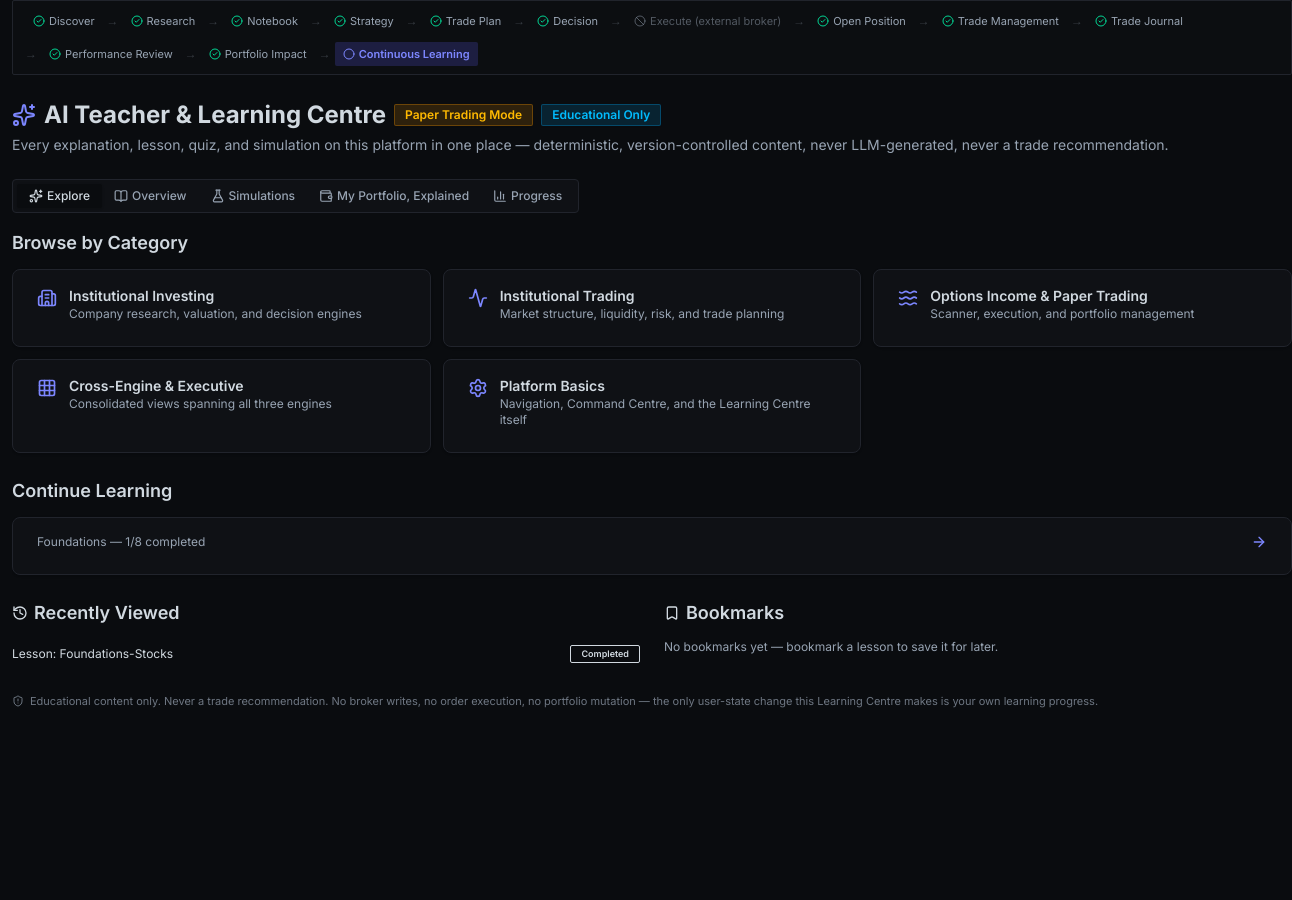
LearningCentre › switching to My Portfolio, Explained shows a real explanation with a related lesson link
Click the tab "My Portfolio, Explained": (394, 196) [307,184,481,208]
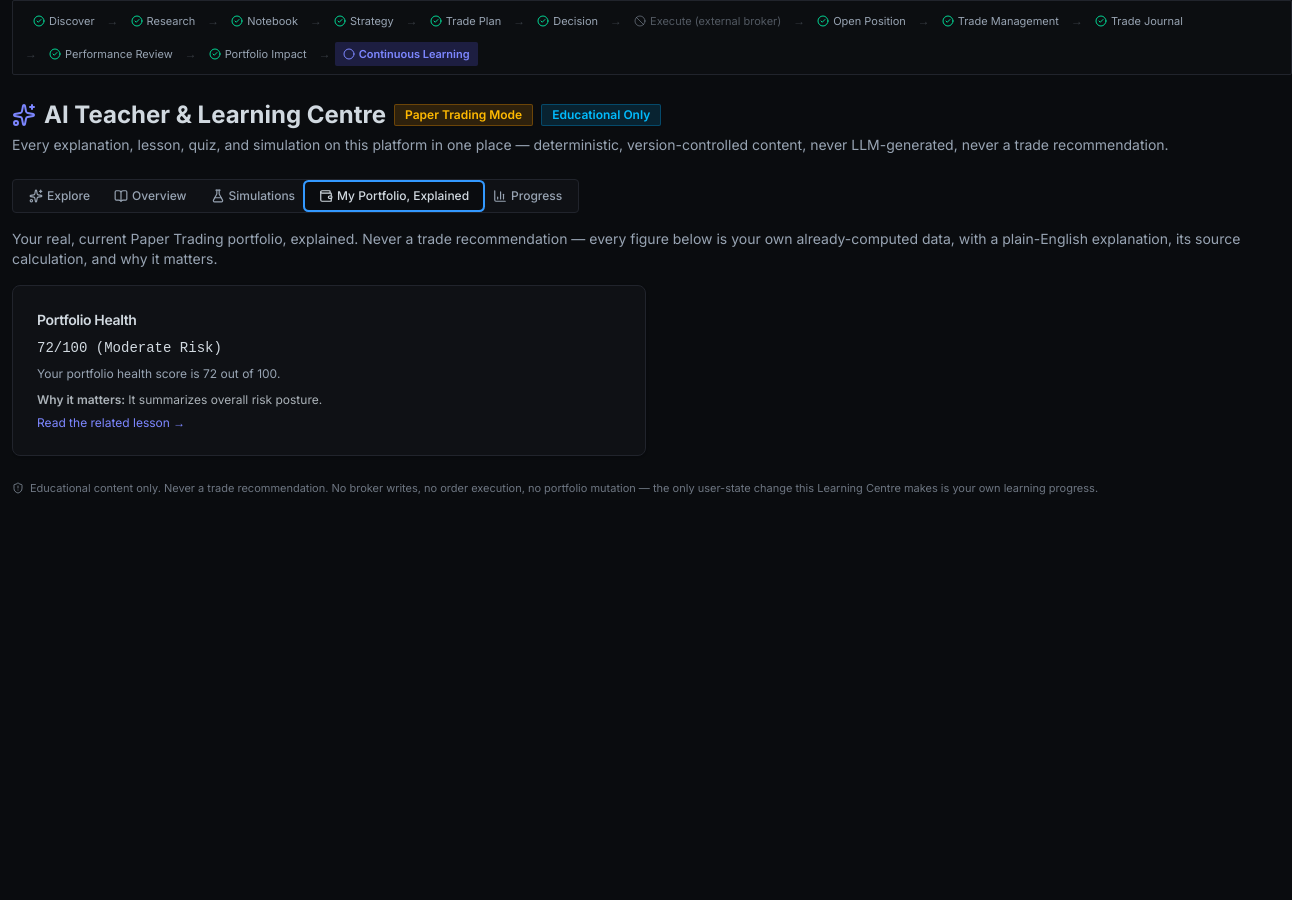
Expected: the text "Your portfolio health score is 72 out of 100." is shown, [37,366,280,381]
